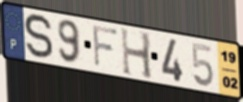4: (160, 36, 186, 85)
5: (191, 42, 215, 88)
9: (57, 19, 82, 65)
F: (91, 23, 120, 70)
H: (119, 26, 155, 82)
S: (23, 12, 55, 61)
